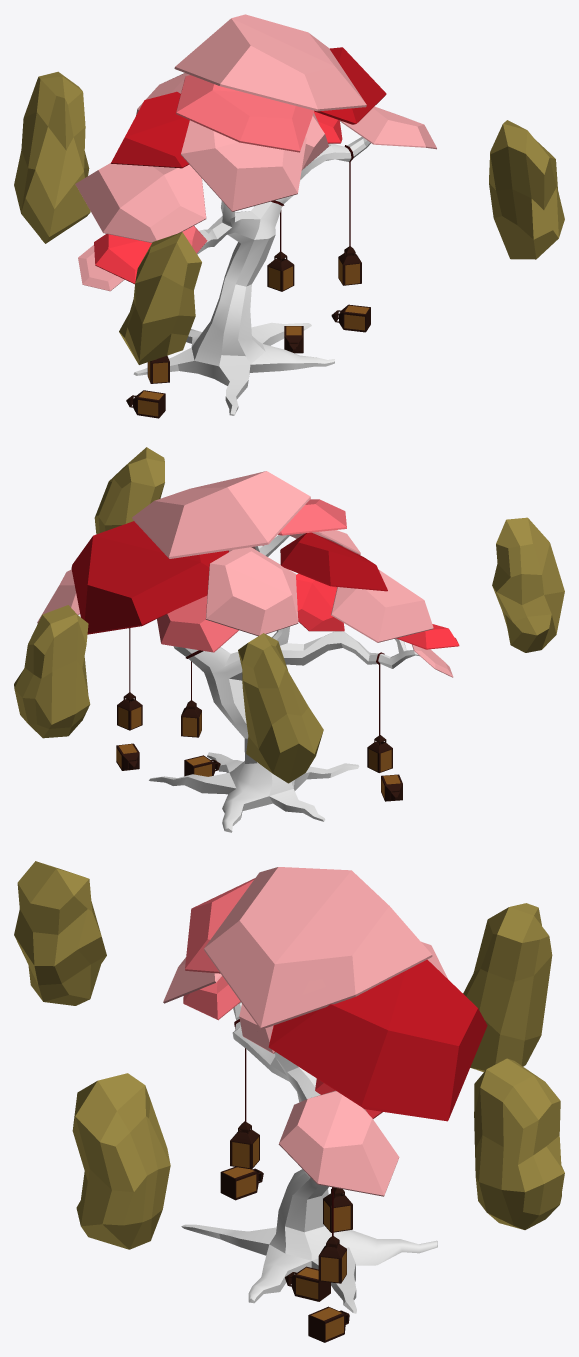
Rendered from SM_Monolith_On.FBX.
3 views of the same model, one above another, from view 1: azimuth 30°, elevation 25°; view 2: azimuth 150°, elevation 25°; view 3: azimuth 270°, elevation 25° (orthographic). The views are drawn at different scales.
Parts seen in each view (by area): view 1: Cylinder001, leaf012, Box011, leaf013, Box009, Box010, leaf011, leaf006, leaf004, leaf010, leaf003, leaf008 (+10 smaller); view 2: Cylinder001, leaf008, leaf012, Box011, Box008, Box010, leaf014, leaf013, leaf004, Box009, leaf015, leaf005 (+11 smaller); view 3: leaf012, leaf008, Box009, Box008, Cylinder001, Box011, Box010, leaf010, leaf006, leaf2, Box019, Box015 (+6 smaller).
Boxes of the visible parts, bbox=[...] form: Cylinder001: bbox=[133, 137, 370, 415]; leaf012: bbox=[174, 14, 366, 111]; Box011: bbox=[14, 71, 90, 243]; leaf013: bbox=[75, 163, 206, 242]; Box009: bbox=[489, 120, 564, 259]; Box010: bbox=[119, 232, 201, 364]; leaf011: bbox=[181, 120, 306, 211]; leaf006: bbox=[176, 75, 314, 152]; leaf004: bbox=[111, 91, 189, 168]; leaf010: bbox=[339, 106, 436, 149]; leaf003: bbox=[94, 234, 151, 284]; leaf008: bbox=[314, 47, 386, 124]; Cylinder001: bbox=[149, 535, 419, 832]; leaf008: bbox=[71, 521, 228, 634]; leaf012: bbox=[132, 471, 310, 558]; Box011: bbox=[238, 633, 323, 783]; Box008: bbox=[14, 605, 90, 738]; Box010: bbox=[492, 517, 564, 652]; leaf014: bbox=[205, 547, 298, 636]; leaf013: bbox=[331, 570, 433, 642]; leaf004: bbox=[280, 532, 387, 591]; Box009: bbox=[94, 447, 164, 534]; leaf015: bbox=[157, 596, 238, 652]; leaf005: bbox=[296, 573, 344, 631]; leaf012: bbox=[204, 867, 432, 1029]; leaf008: bbox=[268, 959, 487, 1121]; Box009: bbox=[72, 1073, 170, 1249]; Box008: bbox=[474, 1058, 564, 1229]; Cylinder001: bbox=[181, 1002, 437, 1313]; Box011: bbox=[463, 903, 552, 1072]; Box010: bbox=[14, 861, 106, 1005]; leaf010: bbox=[278, 1090, 399, 1196]; leaf006: bbox=[185, 878, 254, 973]; leaf2: bbox=[183, 976, 240, 1020]; Box019: bbox=[230, 1121, 259, 1169]; Box015: bbox=[308, 1306, 349, 1342].
Size of the model in its own units: 431 by 375 by 299.
